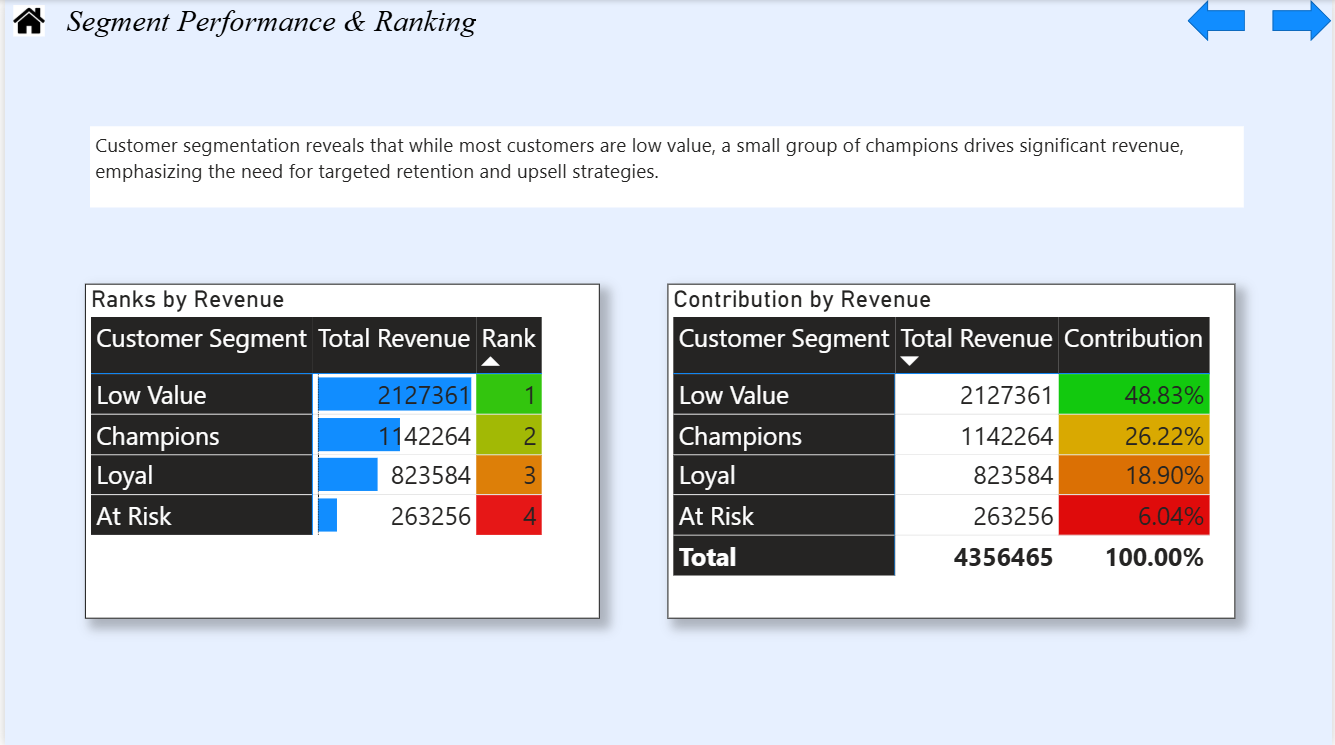

The dashboard page shown, as its layout file describes it:
{"tool":"powerbi","page":{"name":"Segment Performance & Ranking","canvas":[1280,720],"ordinal":3},"visuals":[{"type":"pivotTable","title":"Ranks by Revenue","fields":{"Values":["Measure.#TotalRevenue","Measure.#RankXCustomerSegment"],"Rows":["Dim_Customers.CustomerSegment"]},"box":[77.2,273.9,497.1,323.3],"z":0},{"type":"pivotTable","title":"Contribution by Revenue","fields":{"Values":["Measure.#TotalRevenue","Measure.#RankXCSALL"],"Rows":["Dim_Customers.CustomerSegment"]},"box":[639.4,273.9,547.7,323.3],"z":1000},{"type":"shape","box":[1223.3,0,56.7,39.8],"z":2000},{"type":"shape","box":[1141.3,0,55.5,39.8],"z":3000},{"type":"image","box":[0,0,45.8,39.8],"z":4000},{"type":"shape","box":[45.8,0,422.3,39.8],"z":5000},{"type":"textbox","box":[82,121.9,1113.5,78.4],"z":6000}]}

Visuals, with their boxes in screenshot pixels (x1, y1, x2, y2), scaled from the page's 1280x720 canvas onto the 1335x745 screenshot:
"Ranks by Revenue" pivotTable: BBox(81, 283, 599, 618)
"Contribution by Revenue" pivotTable: BBox(667, 283, 1238, 618)
shape: BBox(1276, 0, 1334, 41)
shape: BBox(1190, 0, 1248, 41)
image: BBox(0, 0, 48, 41)
shape: BBox(48, 0, 488, 41)
textbox: BBox(86, 126, 1247, 207)
